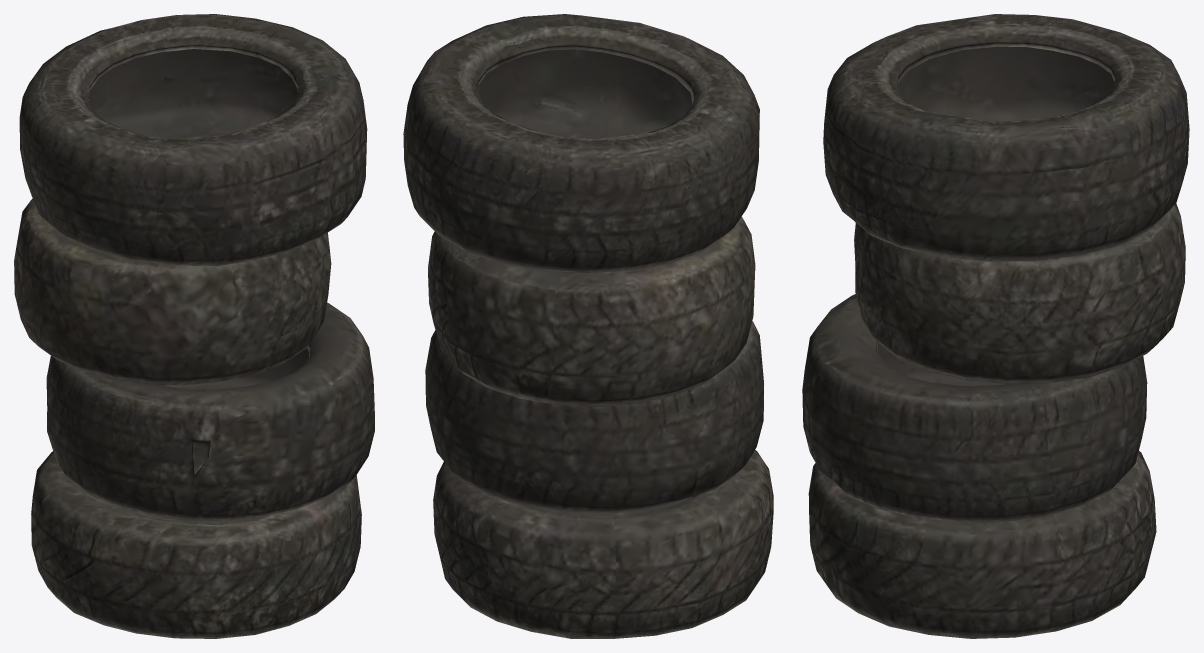
File: tire_stack_prop.glb
3 renders of one model, left to right at view 1: azimuth 30°, elevation 25°; view 2: azimuth 150°, elevation 25°; view 3: azimuth 270°, elevation 25°, orthographic. The views are drawn at different scales.
Parts seen in each view (by area): view 1: Meshy_AI_tire_stack_prop_3d_20261028_texture; view 2: Meshy_AI_tire_stack_prop_3d_20261028_texture; view 3: Meshy_AI_tire_stack_prop_3d_20261028_texture.
Boxes of the visible parts, x1,y1,x2,y2 form: Meshy_AI_tire_stack_prop_3d_20261028_texture: (14,14,374,638); Meshy_AI_tire_stack_prop_3d_20261028_texture: (403,14,773,638); Meshy_AI_tire_stack_prop_3d_20261028_texture: (802,14,1189,638).
Bounding box in the file's own units: 0.7737 × 1.2 × 0.8217.
Materials: 1 (1 with a texture image).
